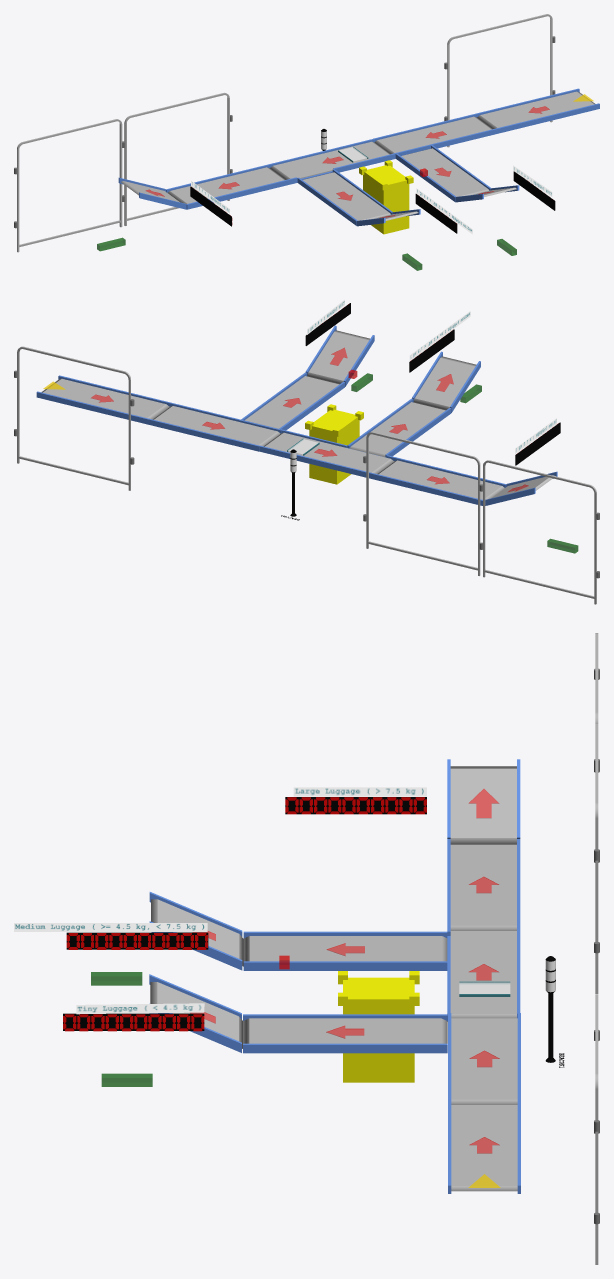
File: Sorter_kassser_COLLADA_EXPORT.dae
3 views of the same model, one above another, from view 1: azimuth 30°, elevation 25°; view 2: azimuth 150°, elevation 25°; view 3: azimuth 270°, elevation 25° (orthographic). The views are drawn at different scales.
Parts seen in each view (by area): view 1: CONVEYOR1, CONVEYOR3, CONVEYOR2, CONVEYOR5, CONVEYOR6, CONVEYOR4, Cube1, FENCE5, FENCE4, FENCE1, CONVEYOR9, EaterMedium (+5 smaller); view 2: CONVEYOR2, CONVEYOR1, CONVEYOR4, CONVEYOR3, CONVEYOR5, CONVEYOR6, CONVEYOR7, CONVEYOR8, Cube1, FENCE1, FENCE5, FENCE4 (+5 smaller); view 3: CONVEYOR5, CONVEYOR6, CONVEYOR4, CONVEYOR1, CONVEYOR2, CONVEYOR3, CONVEYOR9, Cube1, CONVEYOR8, CONVEYOR7, EaterSmall, EaterMedium (+9 smaller).
Boxes of the visible parts, <box> form: CONVEYOR1: <box>476,88,599,133</box>; CONVEYOR3: <box>269,139,395,184</box>; CONVEYOR2: <box>373,113,497,158</box>; CONVEYOR5: <box>395,145,490,202</box>; CONVEYOR6: <box>297,169,392,225</box>; CONVEYOR4: <box>166,164,289,209</box>; Cube1: <box>359,160,413,234</box>; FENCE5: <box>14,119,124,252</box>; FENCE4: <box>122,92,232,225</box>; FENCE1: <box>444,14,555,147</box>; CONVEYOR9: <box>118,177,186,209</box>; EaterMedium: <box>415,194,457,233</box>; CONVEYOR2: <box>147,402,281,451</box>; CONVEYOR1: <box>36,375,170,424</box>; CONVEYOR4: <box>372,457,506,505</box>; CONVEYOR3: <box>259,429,394,478</box>; CONVEYOR5: <box>241,372,344,430</box>; CONVEYOR6: <box>347,398,451,457</box>; CONVEYOR7: <box>412,351,480,412</box>; CONVEYOR8: <box>305,325,374,386</box>; Cube1: <box>305,404,363,484</box>; FENCE1: <box>14,346,134,490</box>; FENCE5: <box>480,460,599,604</box>; FENCE4: <box>363,431,482,575</box>; CONVEYOR5: <box>243,1014,447,1053</box>; CONVEYOR6: <box>243,931,447,970</box>; CONVEYOR4: <box>447,839,520,930</box>; CONVEYOR1: <box>448,1099,520,1193</box>; CONVEYOR2: <box>448,1013,520,1104</box>; CONVEYOR3: <box>447,925,520,1021</box>; CONVEYOR9: <box>447,759,520,844</box>; Cube1: <box>338,971,419,1082</box>; CONVEYOR8: <box>149,974,242,1052</box>; CONVEYOR7: <box>149,892,243,970</box>; EaterSmall: <box>63,1013,204,1031</box>; EaterMedium: <box>66,932,208,949</box>.
Bounding box in the file's own units: 10.54 × 5.73 × 2.02.
Materials: 16 (4 with a texture image).
